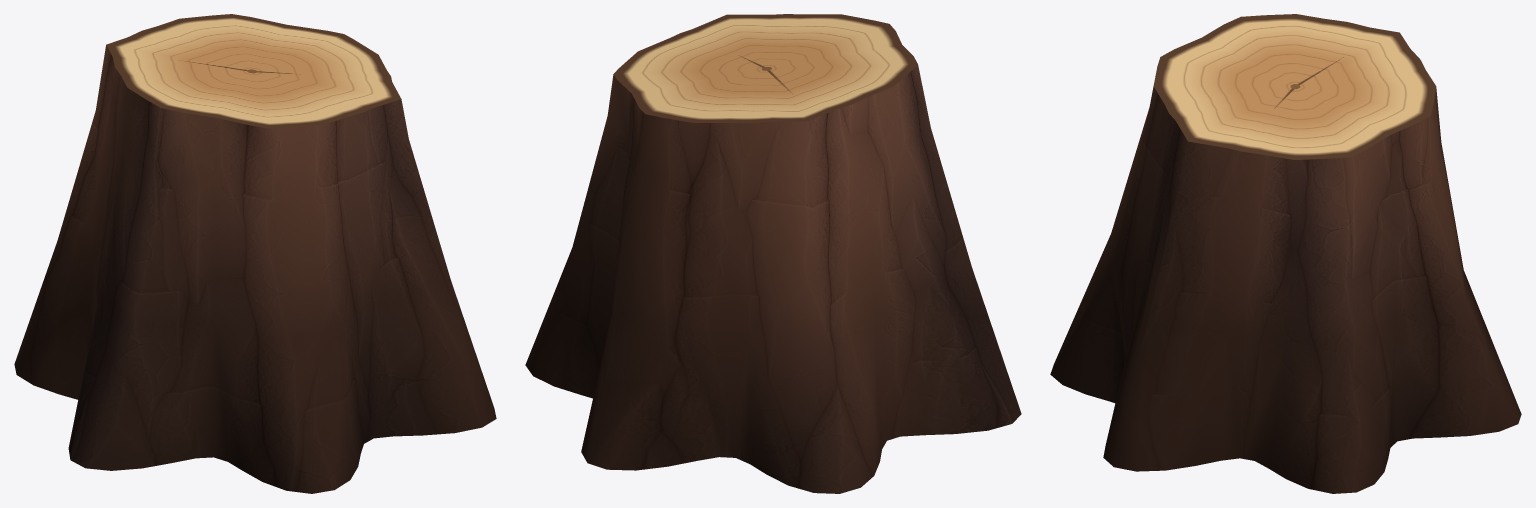
File: Stump_Pine_4.gltf
3 renders of one model, left to right at view 1: azimuth 30°, elevation 25°; view 2: azimuth 150°, elevation 25°; view 3: azimuth 270°, elevation 25°, orthographic. The views are drawn at different scales.
Parts seen in each view (by area): view 1: Stump_Pine_4; view 2: Stump_Pine_4; view 3: Stump_Pine_4.
Boxes of the visible parts, x1,y1,x2,y2 form: Stump_Pine_4: (14,14,496,493); Stump_Pine_4: (525,14,1021,493); Stump_Pine_4: (1050,14,1521,493).
Bounding box in the file's own units: 0.9478 × 0.7143 × 0.9478.
2 materials, 2 textured.
